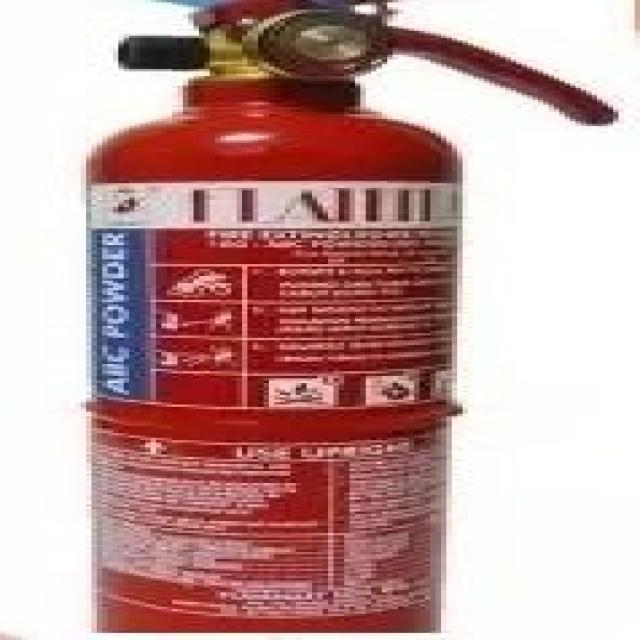fire_extinguisher: (56, 0, 626, 635)
